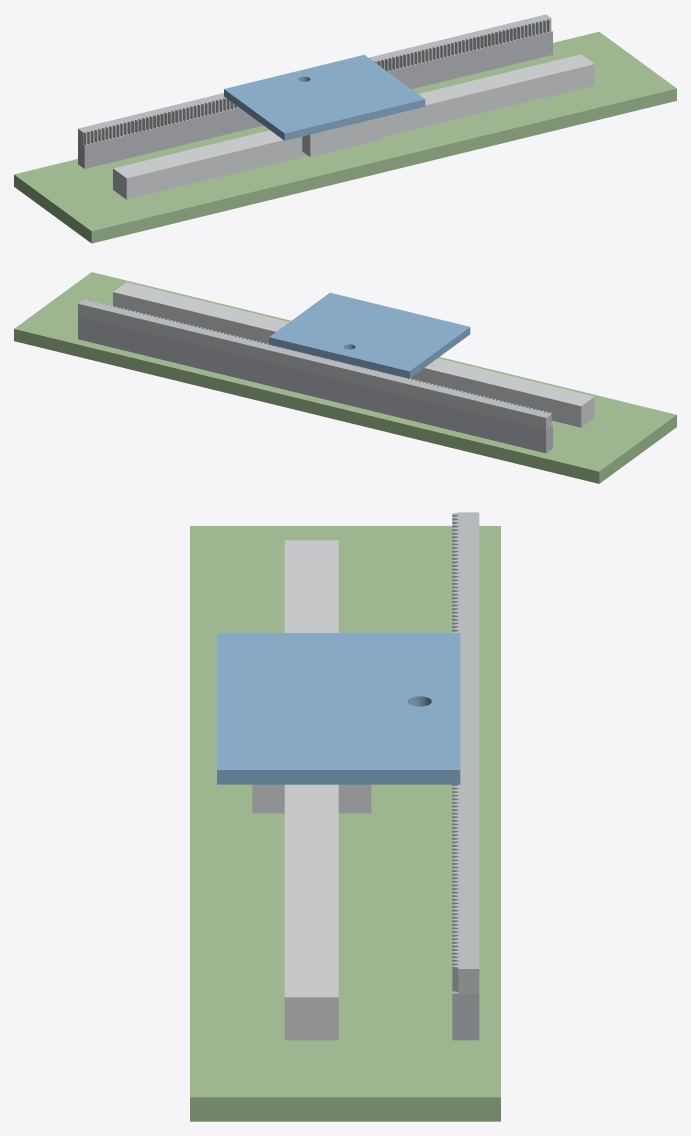
The model's file is step-6.glb.
3 views of the same model, one above another, from view 1: azimuth 30°, elevation 25°; view 2: azimuth 150°, elevation 25°; view 3: azimuth 270°, elevation 25° (orthographic). The views are drawn at different scales.
Visible parts, largest first — view 1: base-plate__mesh, rail__mesh, cart__mesh, riser__mesh, rack__mesh, block__mesh; view 2: base-plate__mesh, riser__mesh, cart__mesh, rail__mesh, rack__mesh; view 3: base-plate__mesh, cart__mesh, rail__mesh, rack__mesh, block__mesh, riser__mesh.
Boxes of the visible parts, x1,y1,x2,y2 form: base-plate__mesh: (14, 31, 676, 243); rail__mesh: (113, 54, 594, 199); cart__mesh: (224, 54, 425, 140); riser__mesh: (78, 30, 552, 168); rack__mesh: (78, 14, 551, 145); block__mesh: (302, 117, 381, 156); base-plate__mesh: (14, 272, 676, 483); riser__mesh: (78, 316, 552, 453); cart__mesh: (269, 292, 470, 378); rail__mesh: (113, 282, 594, 427); rack__mesh: (78, 299, 551, 429); base-plate__mesh: (190, 526, 500, 1121); cart__mesh: (217, 633, 460, 784); rail__mesh: (284, 540, 338, 1040); rack__mesh: (452, 512, 479, 993); block__mesh: (252, 784, 371, 813); riser__mesh: (452, 991, 479, 1040).
Bounding box in the file's own units: 0.5 × 0.046 × 0.115.
